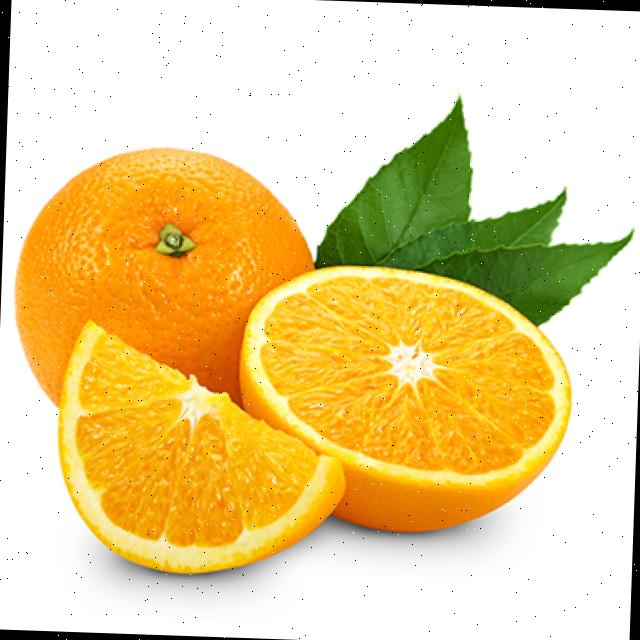Jeruk: (233, 260, 575, 538), (8, 140, 318, 419), (50, 316, 352, 578)
